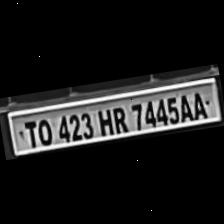0: (32, 116, 54, 146)
2: (66, 110, 86, 140)
3: (73, 108, 94, 140)
4: (52, 112, 74, 142), (146, 94, 166, 126), (136, 97, 155, 129)
5: (162, 92, 180, 125)
7: (124, 100, 146, 131)
H: (92, 104, 116, 137)
N: (178, 90, 200, 122)
R: (107, 102, 129, 134)
